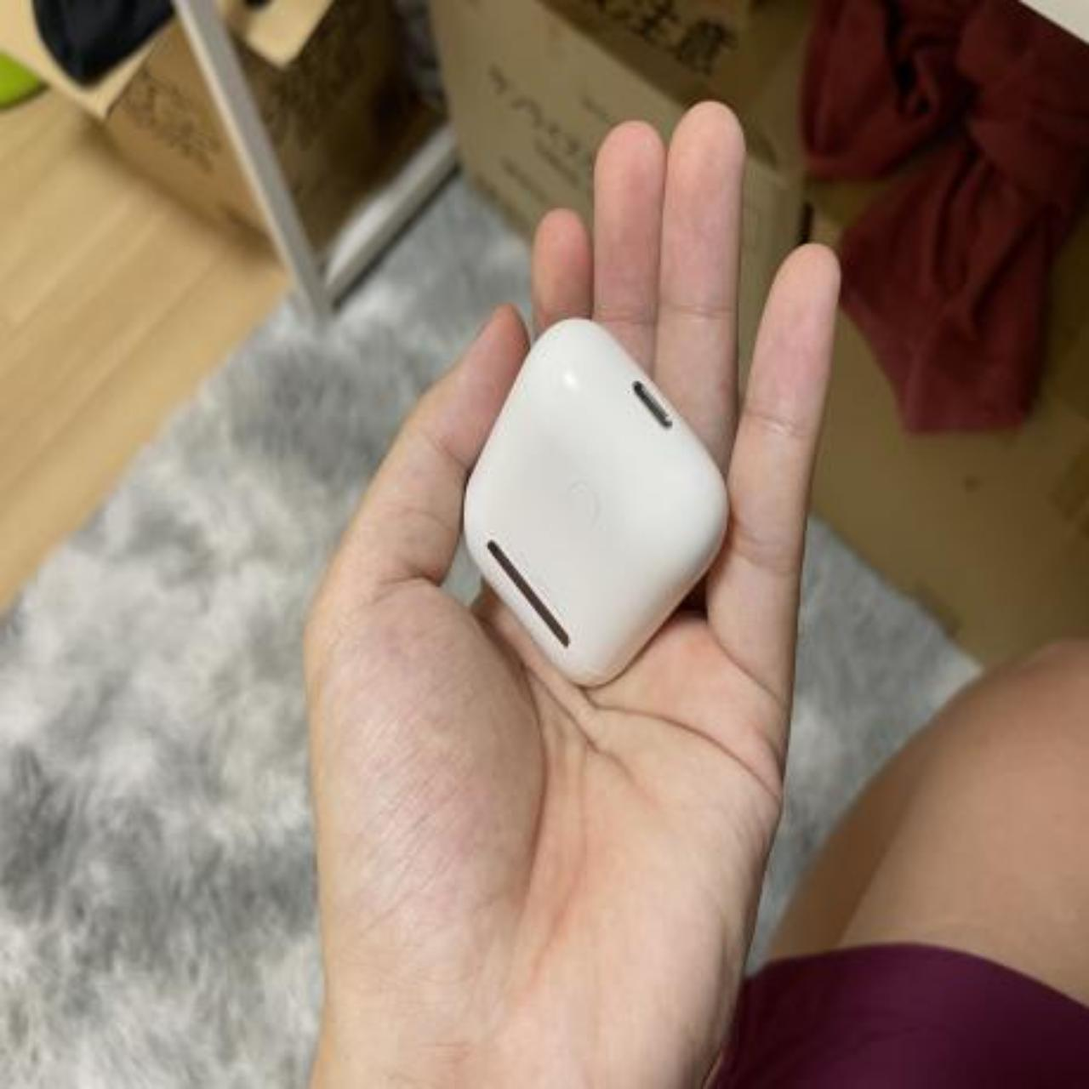AirPods: (445, 298, 731, 696)
